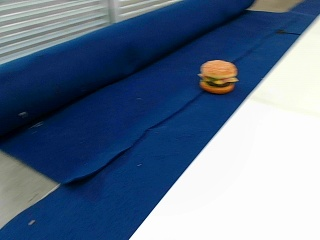burger: (198, 58, 237, 93)
